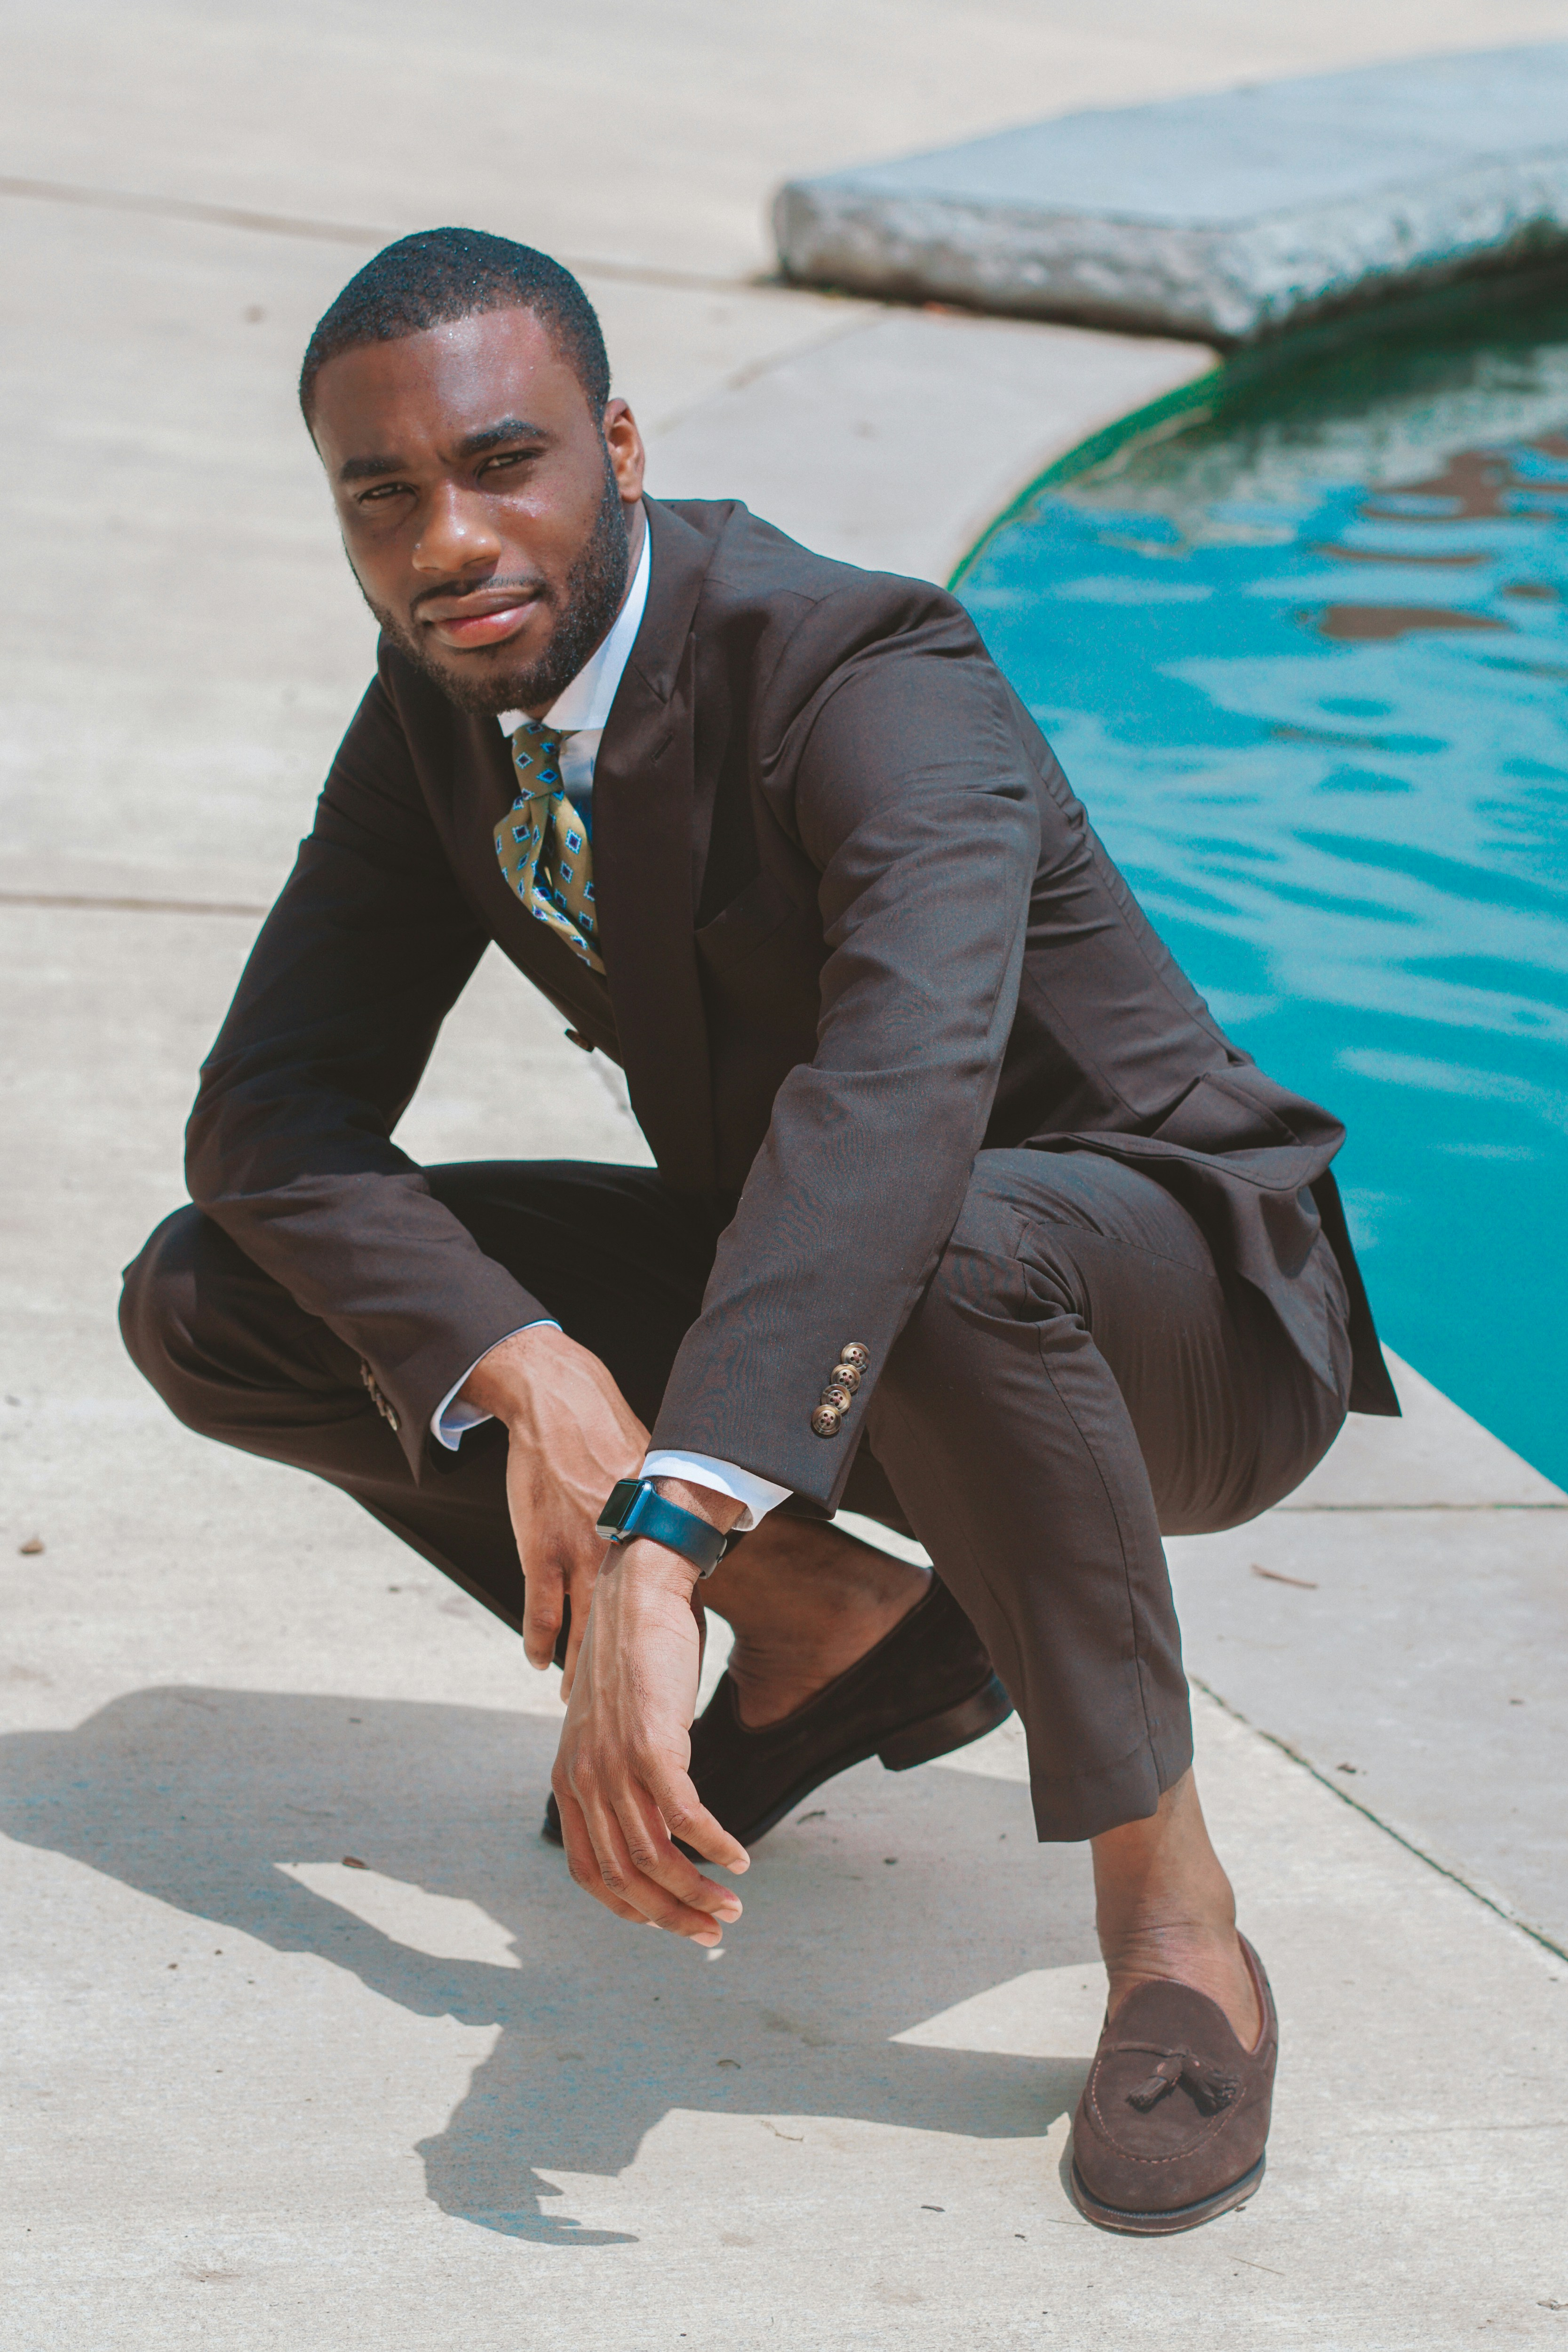Footwear: (1017, 1855, 1376, 2319)
